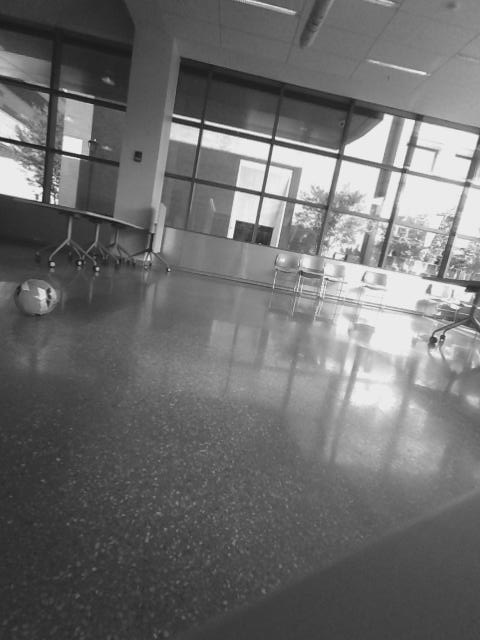ball: (11, 273, 61, 319)
